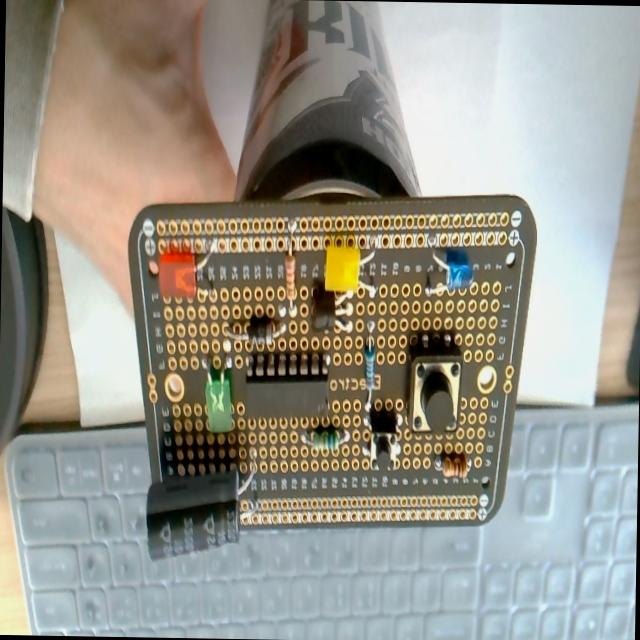Electrolytic capacitor: (144, 465, 256, 563)
IC: (243, 353, 332, 428)
diode: (224, 316, 286, 348)
led: (157, 240, 215, 300), (425, 250, 475, 298), (322, 239, 360, 294), (204, 366, 233, 432)
resistor: (282, 231, 298, 316), (302, 424, 348, 450), (434, 452, 469, 480), (362, 344, 377, 409)
switch: (408, 344, 462, 438), (364, 418, 401, 470)
transistor: (308, 287, 350, 332)
